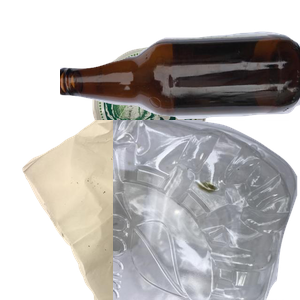glass: (60, 29, 300, 141)
metal: (90, 44, 289, 195)
plastic: (113, 120, 300, 300)
trash: (20, 120, 260, 300)
